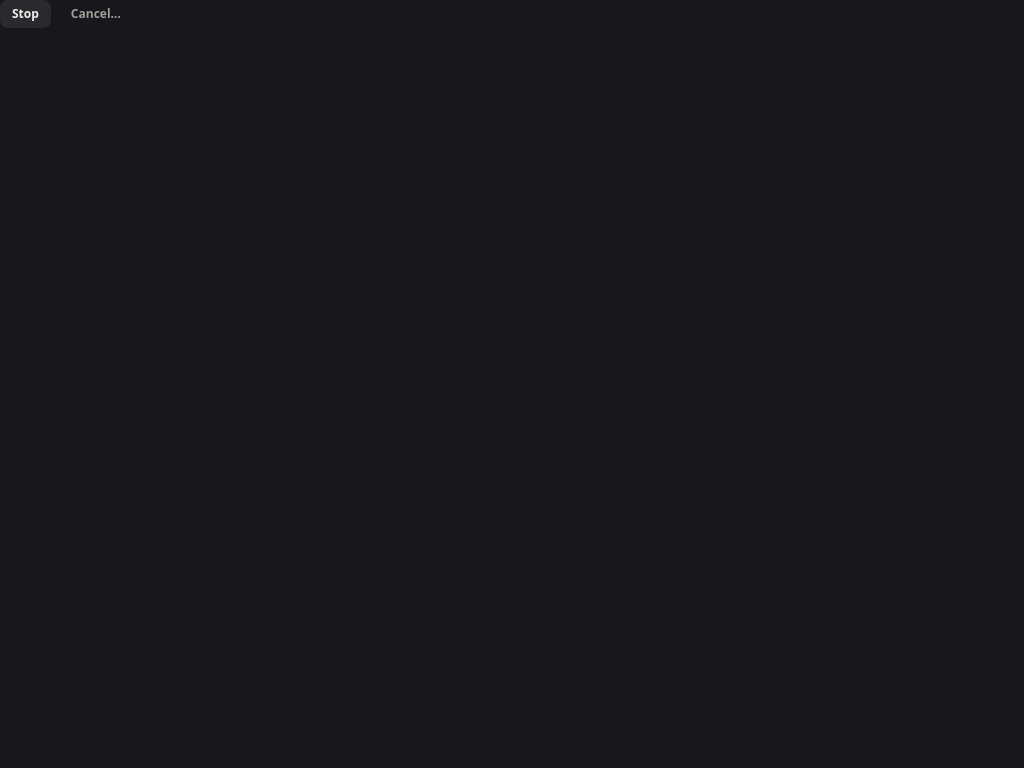
Scenario: Stopping a job › cancels only once confirmed, and shows why it could not
The image size is (1024, 768).
What coordinates should you click on to do the following:
click the button with aria-label "Cancel the edit…"
I would click on:
 (96, 14)
Its box is [59,0,133,28].
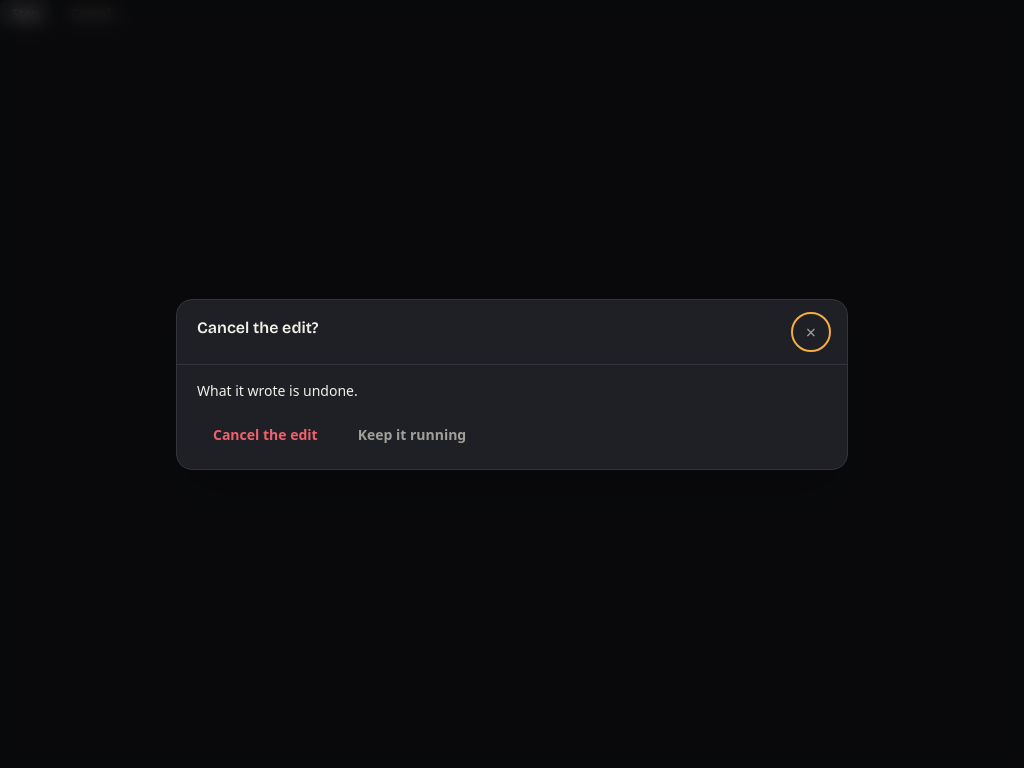
Now the dialog "Cancel the edit?" shows "What it wrote is undone.", box [197,380,358,400]
What coordinates should you click on to do the following:
click the button "Keep it running"
I would click on:
 (412, 434)
Its box is [342,416,482,452].
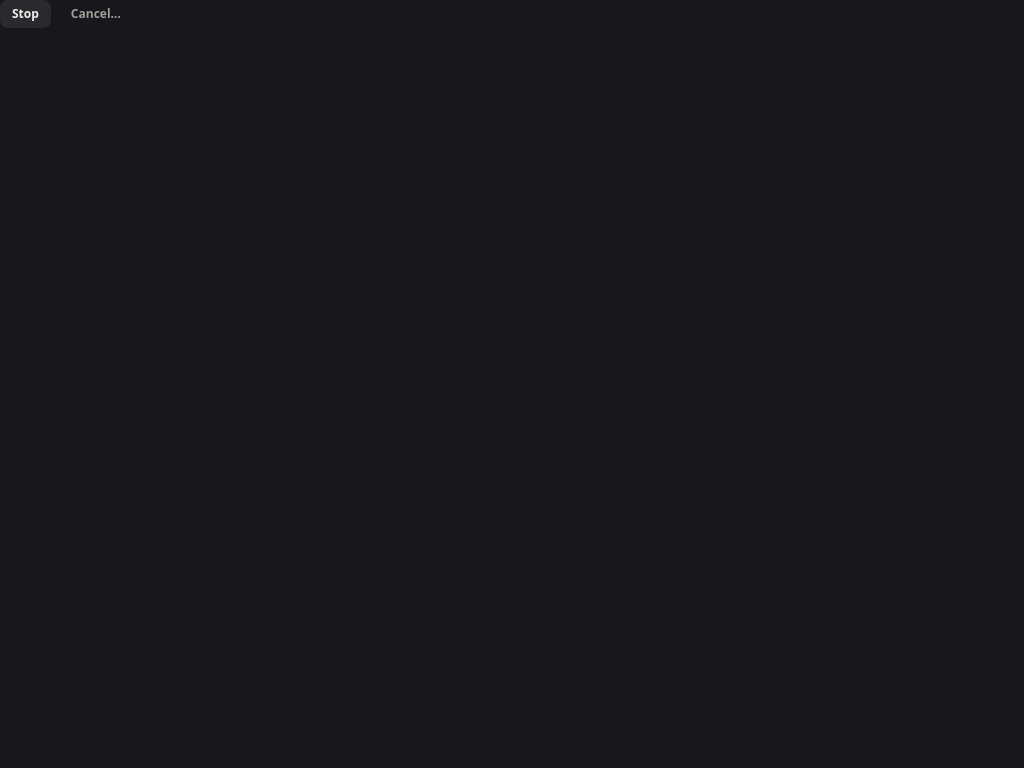
What coordinates should you click on to do the following:
click the button with aria-label "Cancel the edit…"
I would click on:
 (96, 14)
Its box is [59,0,133,28].
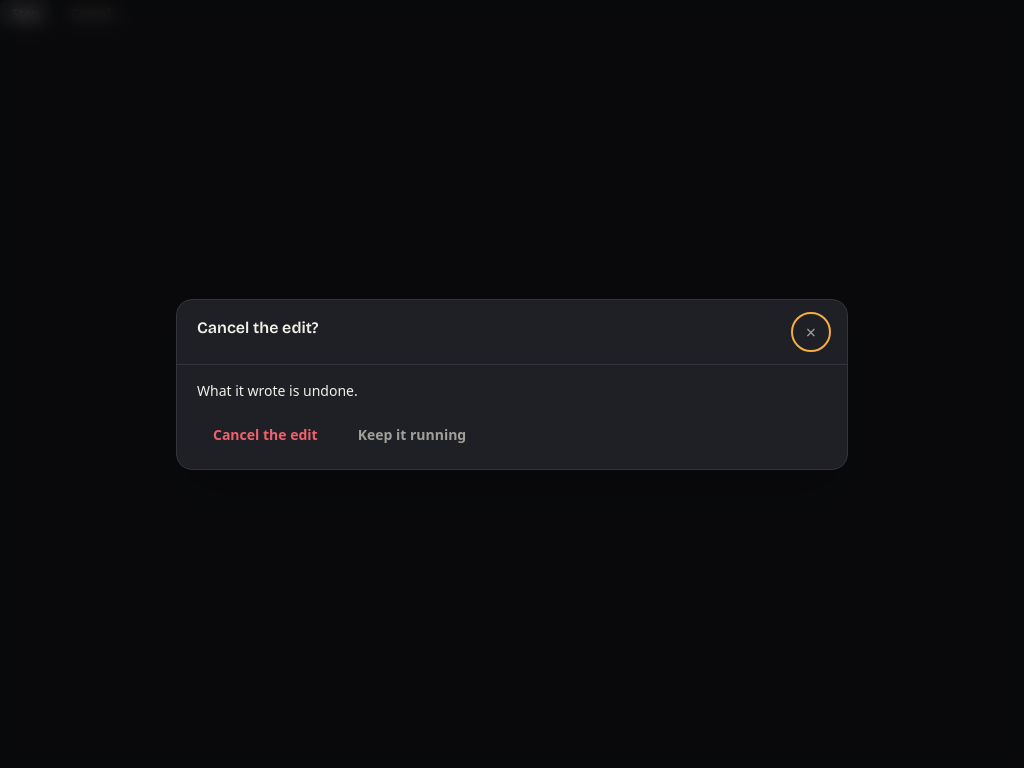
What coordinates should you click on to do the following:
click the button "Cancel the edit"
I would click on:
 (265, 434)
Its box is [197,416,334,452].
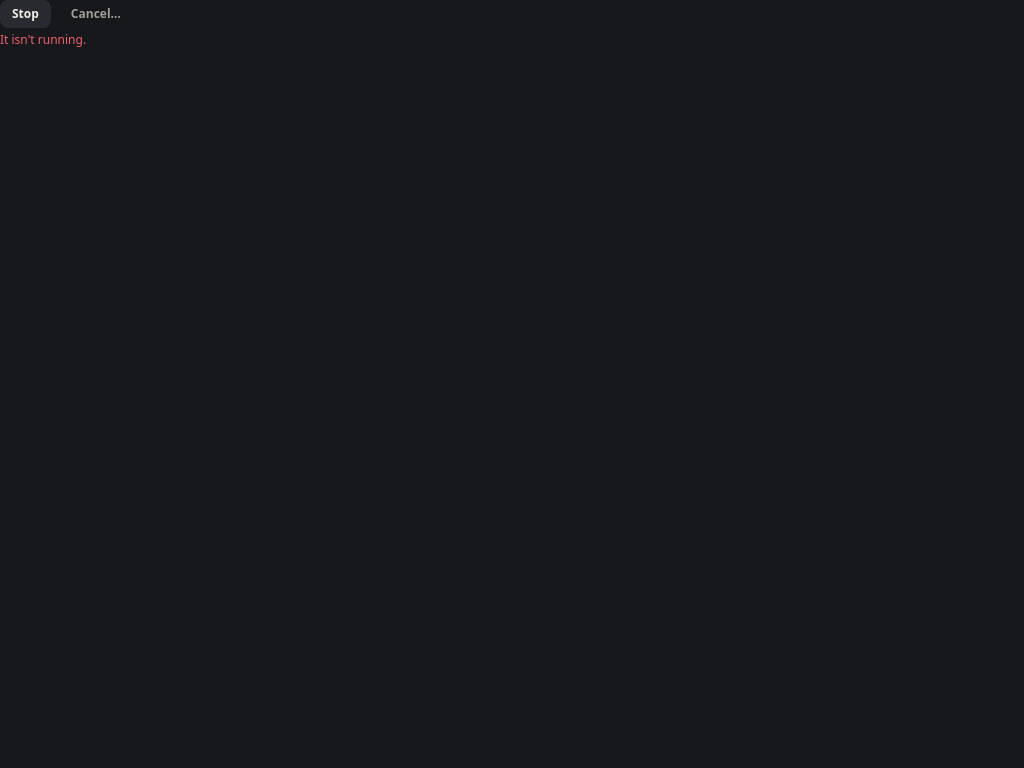
Expected: the button with aria-label "Stop the edit" is shown, [0,0,51,28]
Now the message reads "It isn't running.", box [0,31,86,48]
